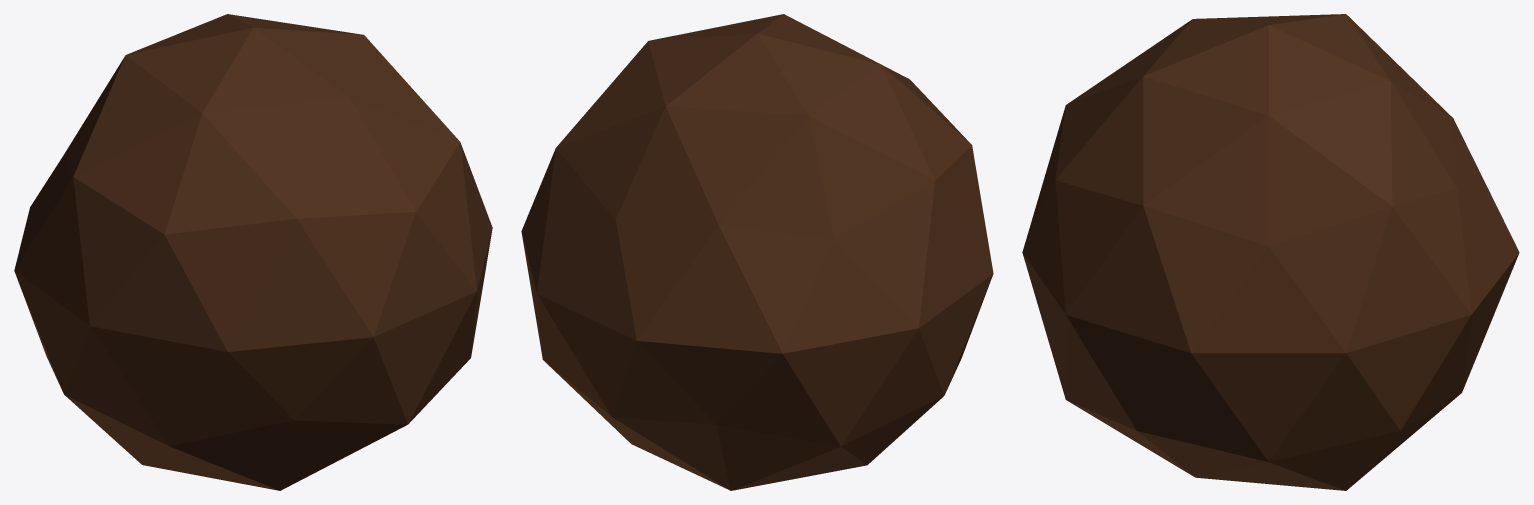
File: meatball.fbx
3 renders of one model, left to right at view 1: azimuth 30°, elevation 25°; view 2: azimuth 150°, elevation 25°; view 3: azimuth 270°, elevation 25°, orthographic. The views are drawn at different scales.
Visible parts, largest first — view 1: Icosphere; view 2: Icosphere; view 3: Icosphere.
Boxes of the visible parts, <box> form: Icosphere: <box>14,14,492,490</box>; Icosphere: <box>521,14,993,490</box>; Icosphere: <box>1022,14,1519,490</box>.
Bounding box in the file's own units: 62.9 × 65.83 × 65.55.
